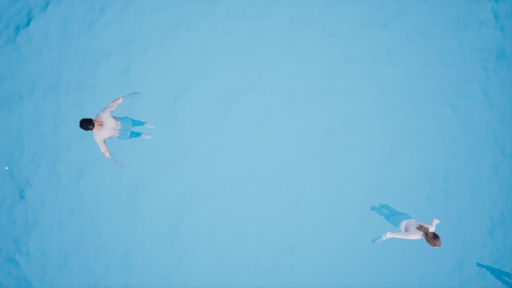person: (70, 90, 164, 167), (359, 200, 455, 252)
